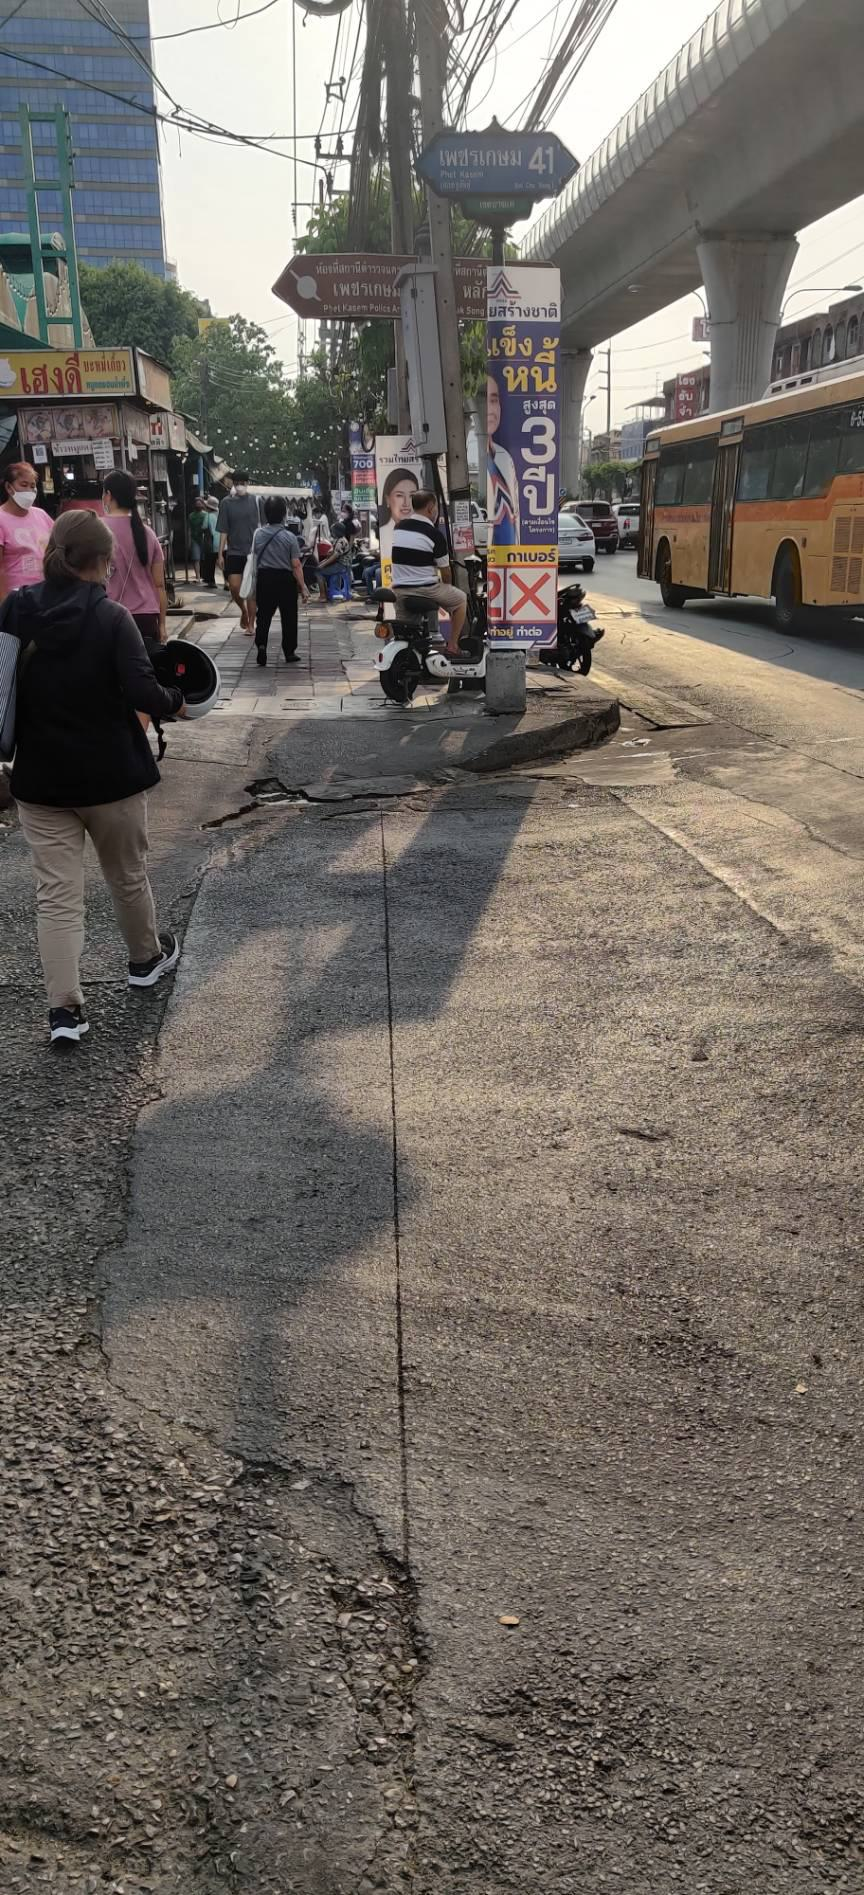Banner: (483, 272, 564, 628), (376, 436, 425, 583)
